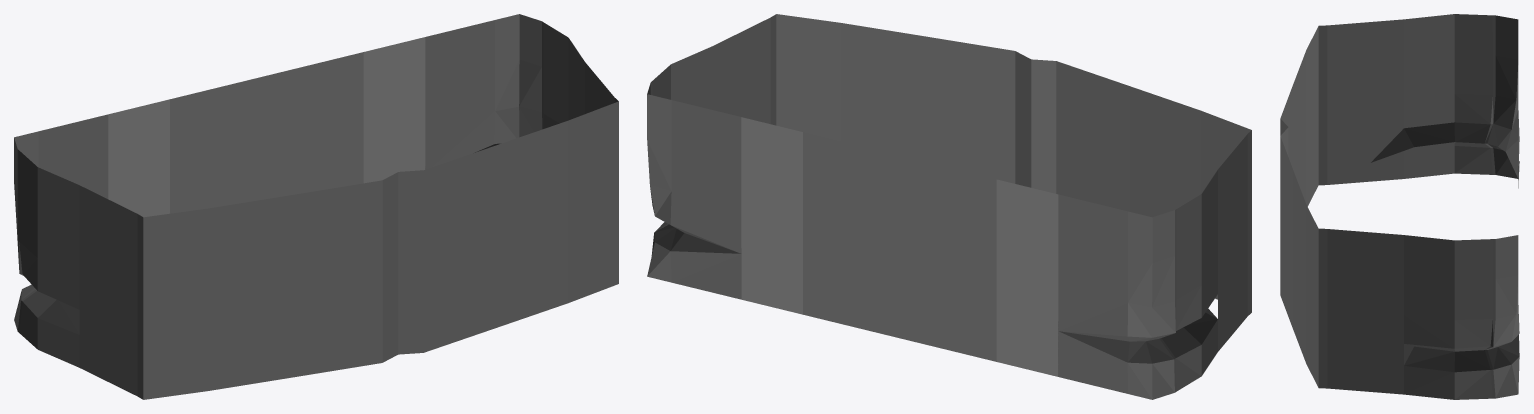
3 views of the same model, side by side, from view 1: azimuth 30°, elevation 25°; view 2: azimuth 150°, elevation 25°; view 3: azimuth 270°, elevation 25° (orthographic). The views are drawn at different scales.
Parts seen in each view (by area): view 1: group_13; view 2: group_13; view 3: group_13.
Part boxes in pixels (x1,y1,x2,y2): group_13: (14,14,618,399); group_13: (647,14,1251,399); group_13: (1280,14,1519,399).
Size of the model in its own units: 12459 by 4096 by 5562.
Materials: 1 (1 with a texture image).
